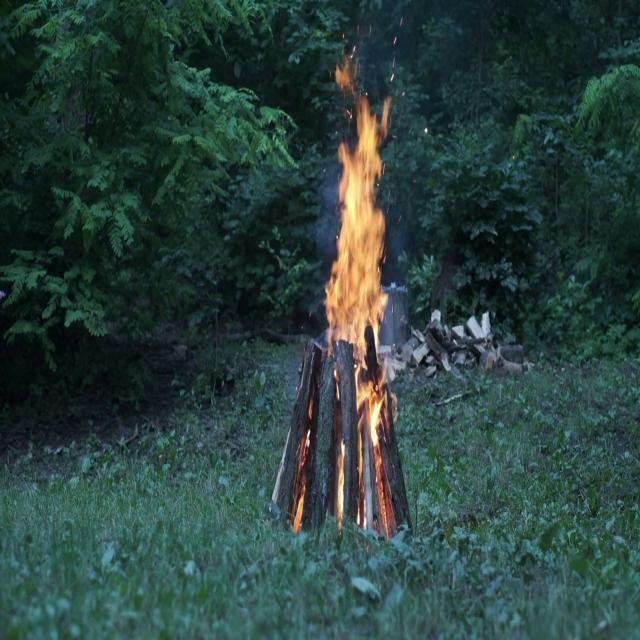Fire: (317, 61, 403, 514)
